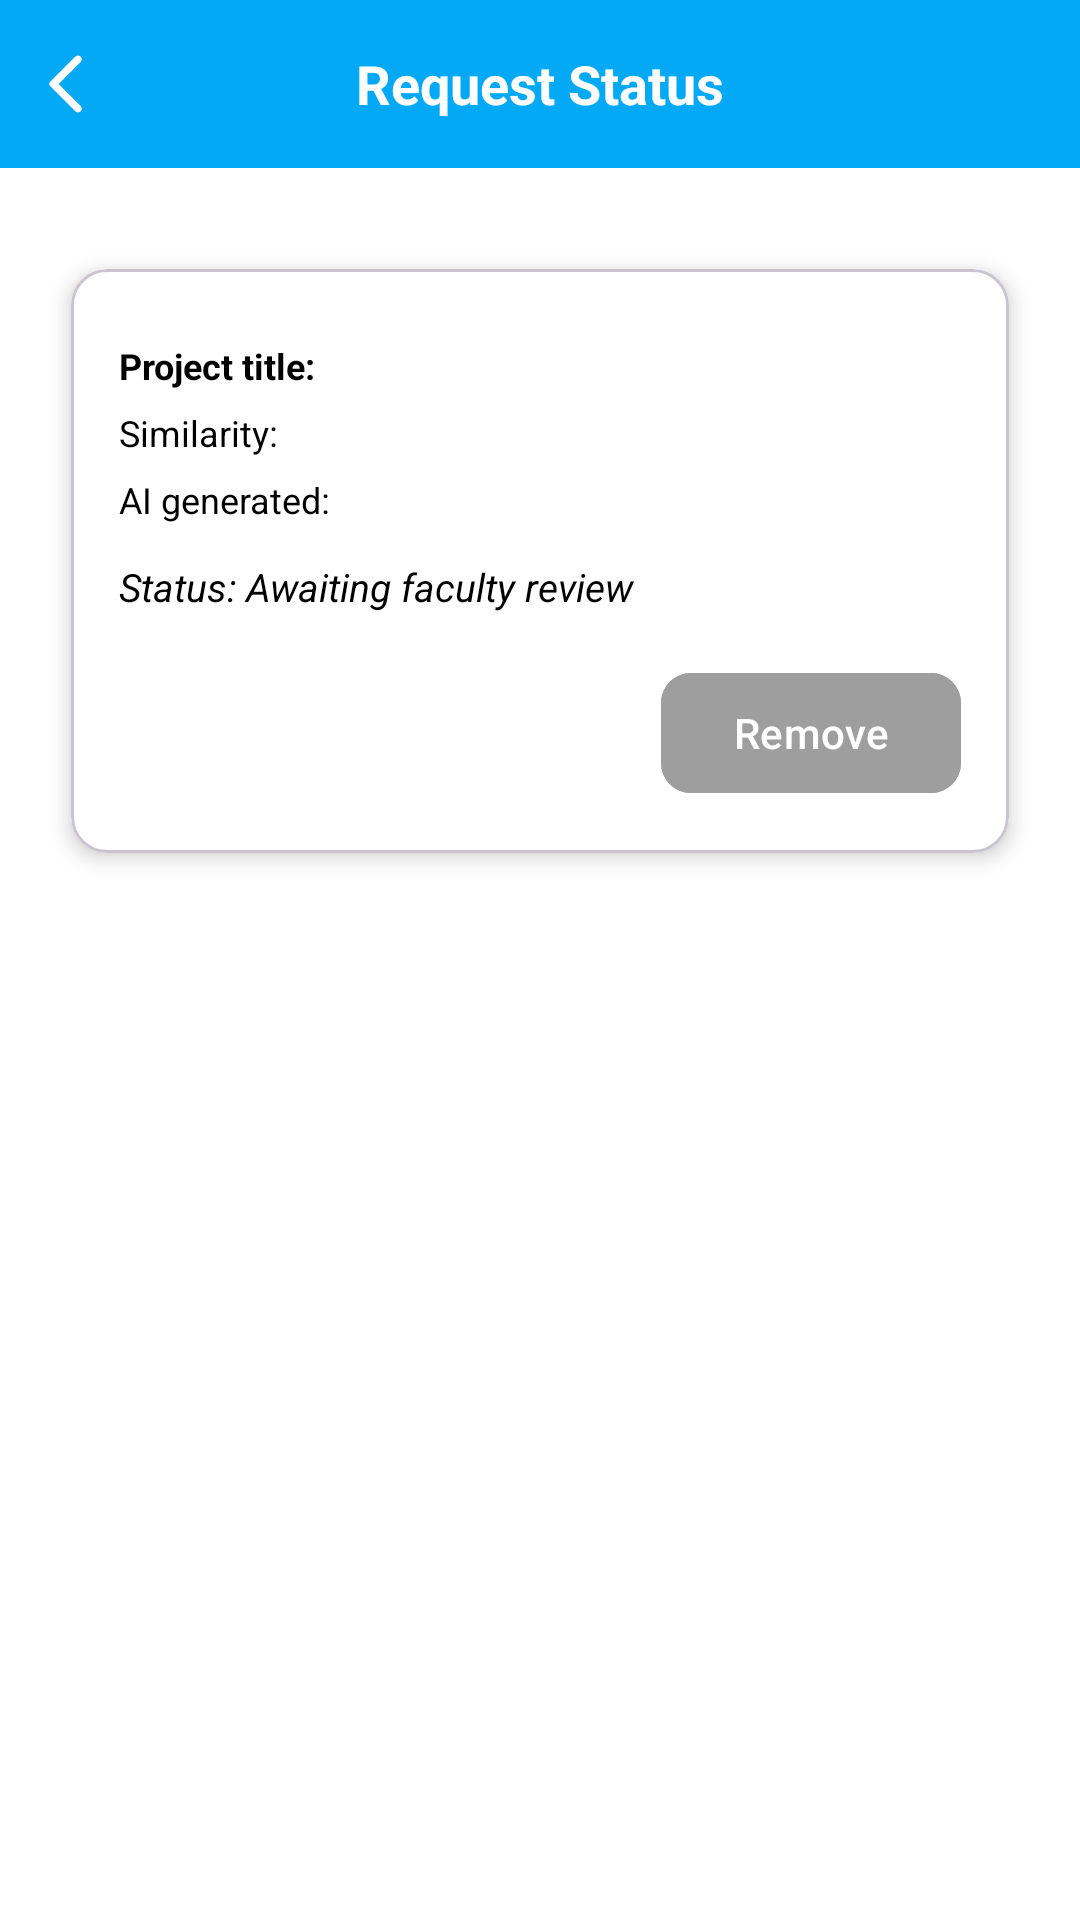

Screen size 1080×1920. Icon name, then its center in pixels as point (x, y):
back: point (65, 84)
